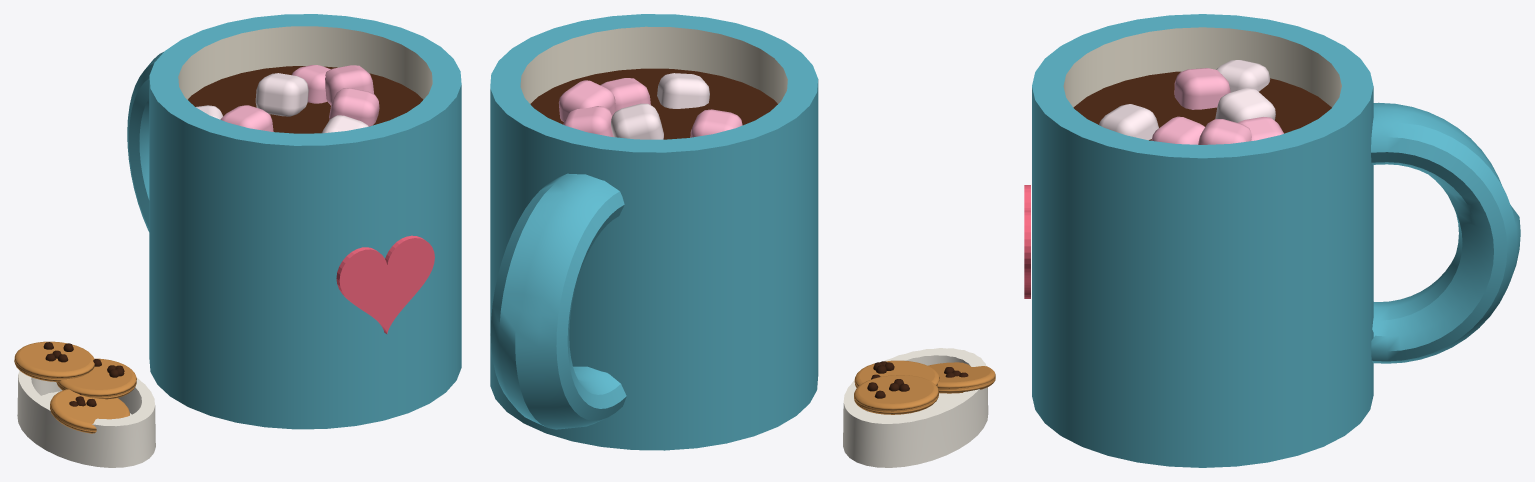
Rendered from KakaoKupasi.fbx.
3 renders of one model, left to right at view 1: azimuth 30°, elevation 25°; view 2: azimuth 150°, elevation 25°; view 3: azimuth 270°, elevation 25°, orthographic. The views are drawn at different scales.
Parts seen in each view (by area): view 1: Kakao_Kupasi, Kurabiye_Tabagi; view 2: Kakao_Kupasi, Kurabiye_Tabagi; view 3: Kakao_Kupasi.
Part boxes in pixels (x1,y1,x2,y2): Kakao_Kupasi: (127,14,461,429); Kurabiye_Tabagi: (14,341,155,467); Kakao_Kupasi: (490,14,818,450); Kurabiye_Tabagi: (843,348,995,467); Kakao_Kupasi: (1024,14,1520,467).
Size of the model in its own units: 3.11 by 2 by 2.91.
